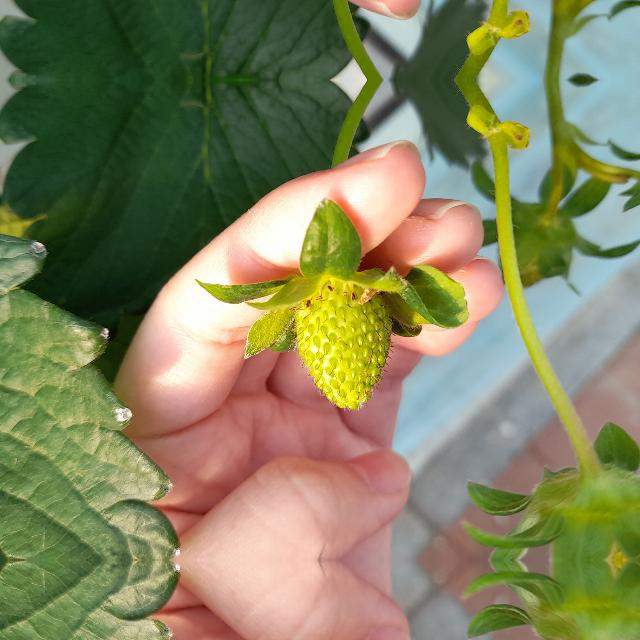Health_25: (288, 280, 396, 412)
